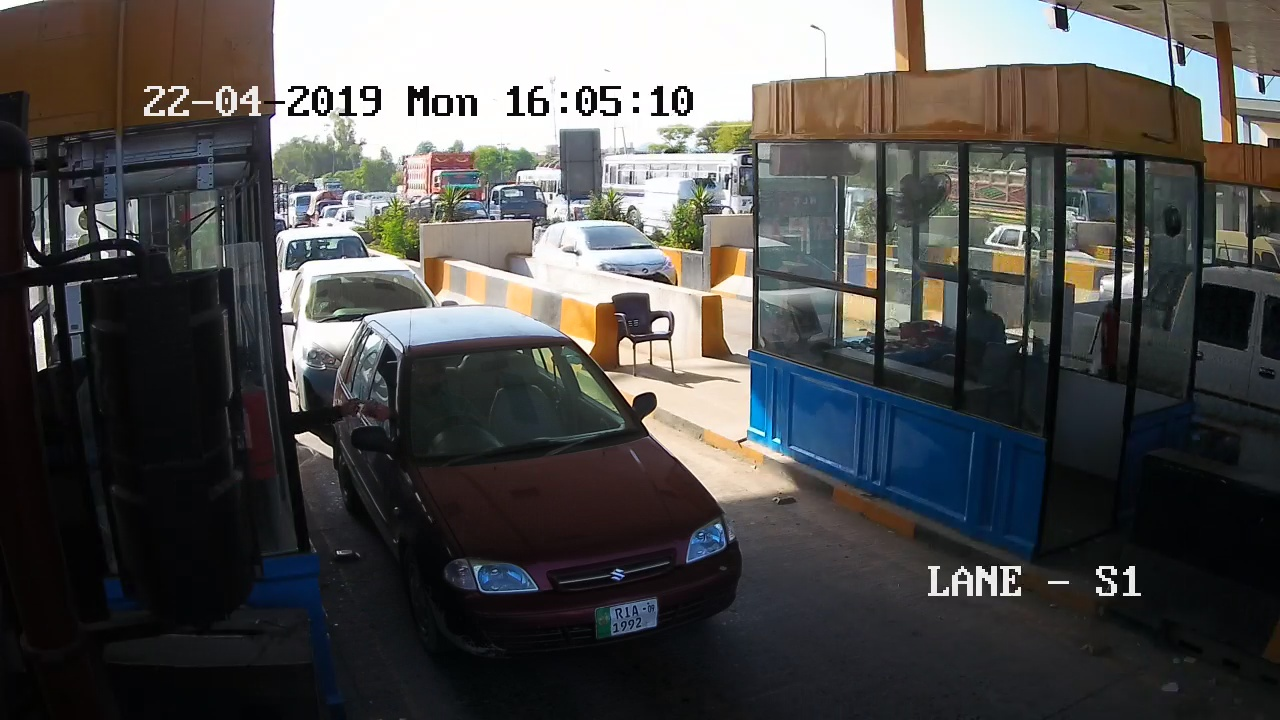Number Plate (Car): (592, 601, 666, 636)
